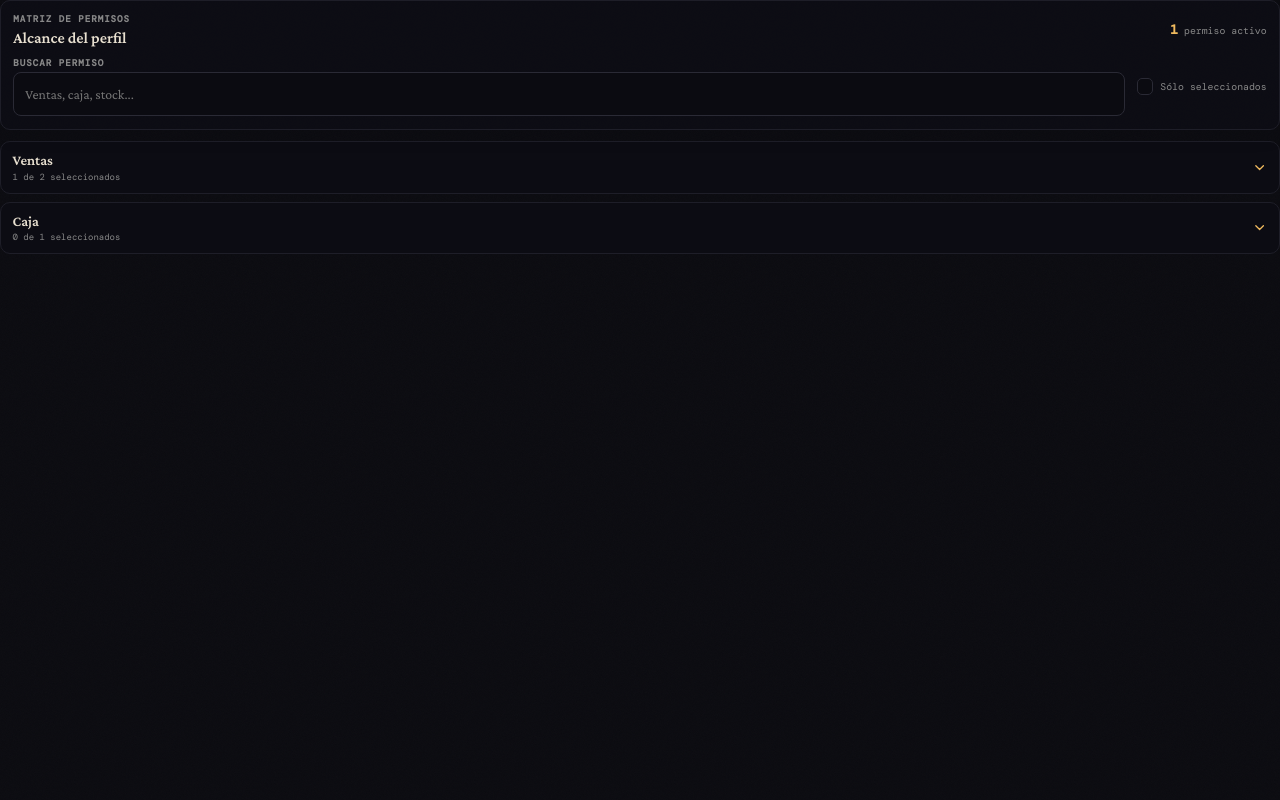
Test: PermissionMatrixComponent › starts modules collapsed and exposes expansion state
Click the button "Ventas 1 de 2 seleccionados": (33, 160) left=1, top=142, right=1279, bottom=193
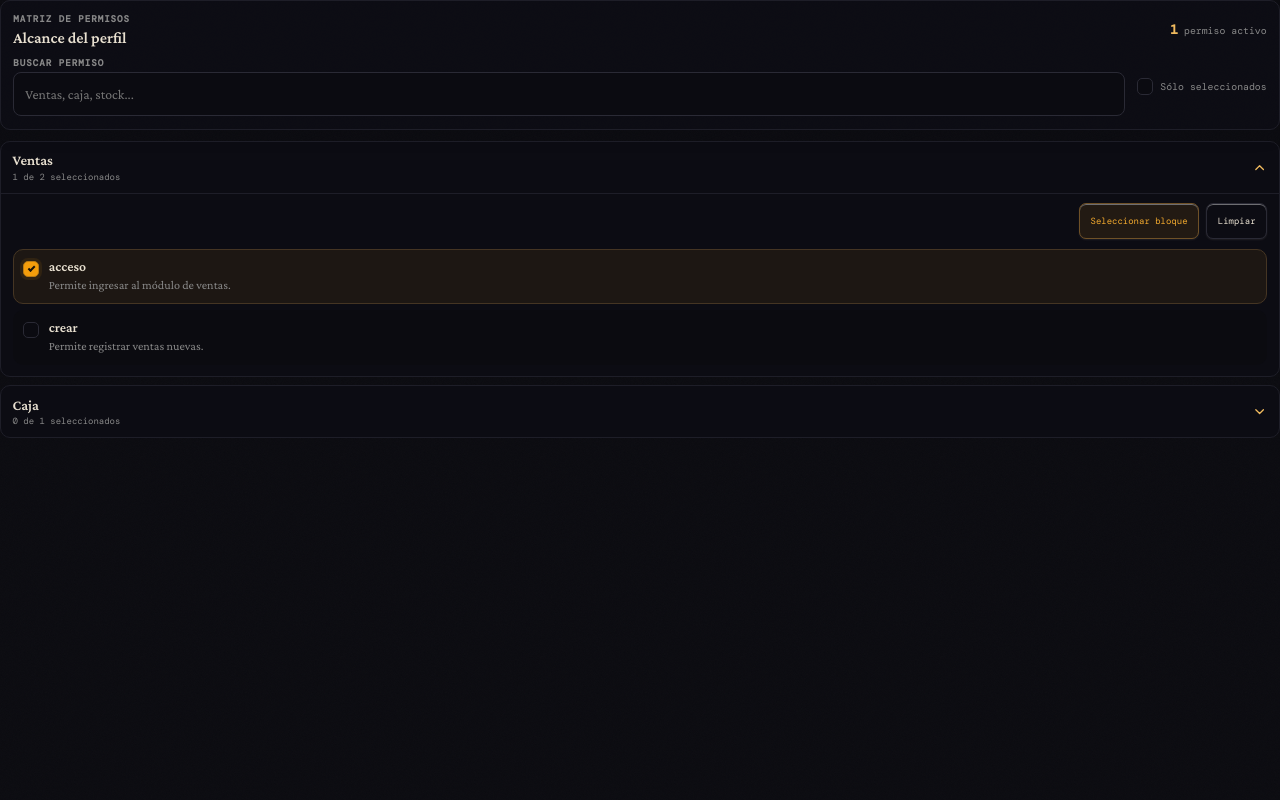
Expected: the button "Ventas 1 de 2 seleccionados" is expanded, left=1, top=142, right=1279, bottom=193
Expected: the element that starts with "Seleccionar bloque" is shown, left=1, top=193, right=1279, bottom=376
Expected: the text "Permite registrar ventas nuevas." is shown, left=49, top=339, right=204, bottom=353
